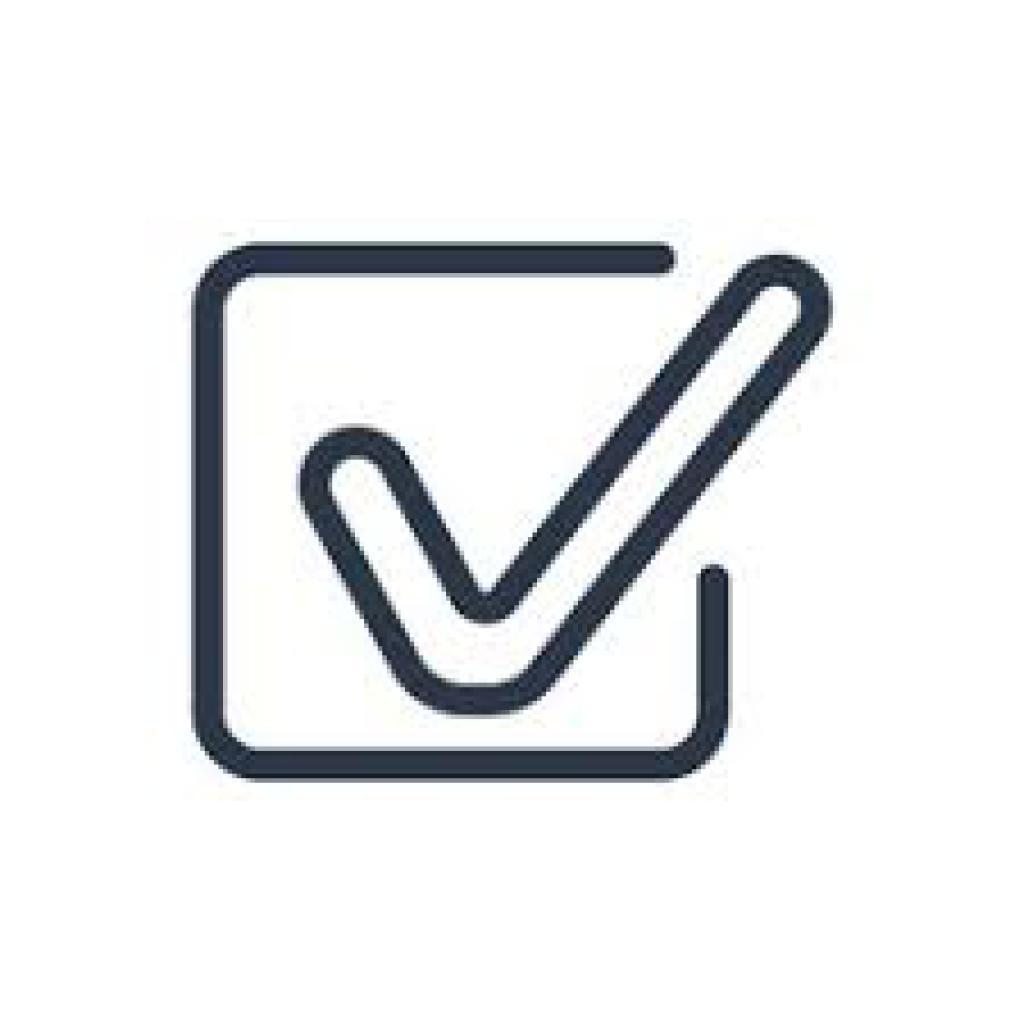checkbox: (190, 242, 734, 786)
